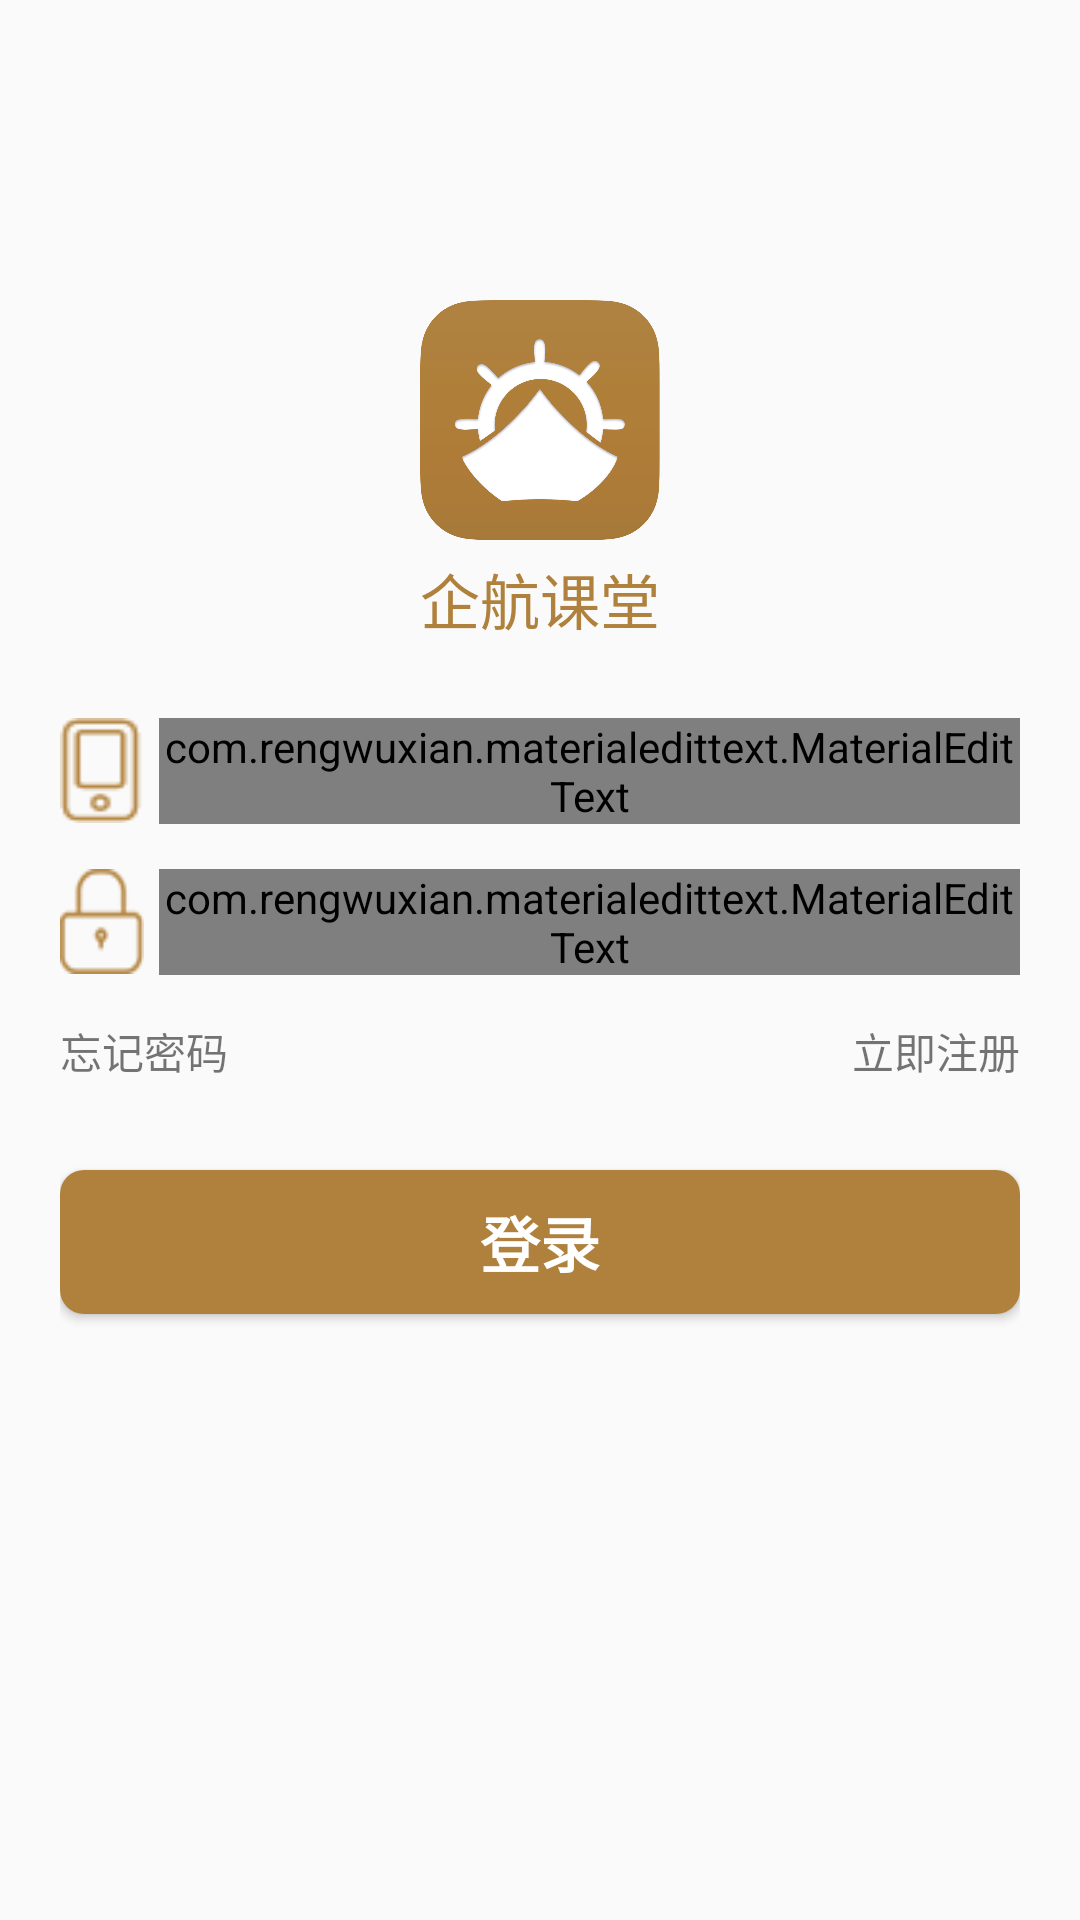

Icons on this 1080x1920 Android screen, each with its box as (x1, y1, x2, y2):
userpwd: (60, 869, 144, 974)
